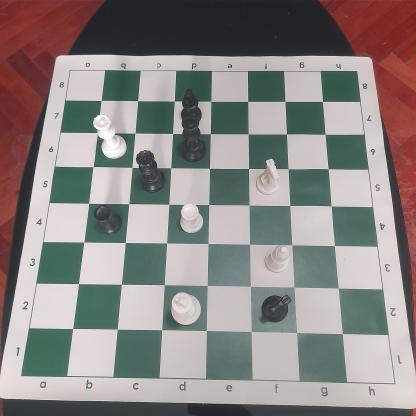black-bishop: (178, 86, 202, 126)
black-king: (177, 109, 207, 163)
black-knight: (260, 290, 292, 326)
black-queen: (135, 148, 169, 195)
black-rook: (91, 201, 126, 236)
white-bishop: (264, 244, 294, 274)
white-king: (169, 290, 203, 326)
white-knight: (254, 156, 280, 196)
white-queen: (89, 113, 129, 161)
white-rook: (178, 200, 206, 238)
